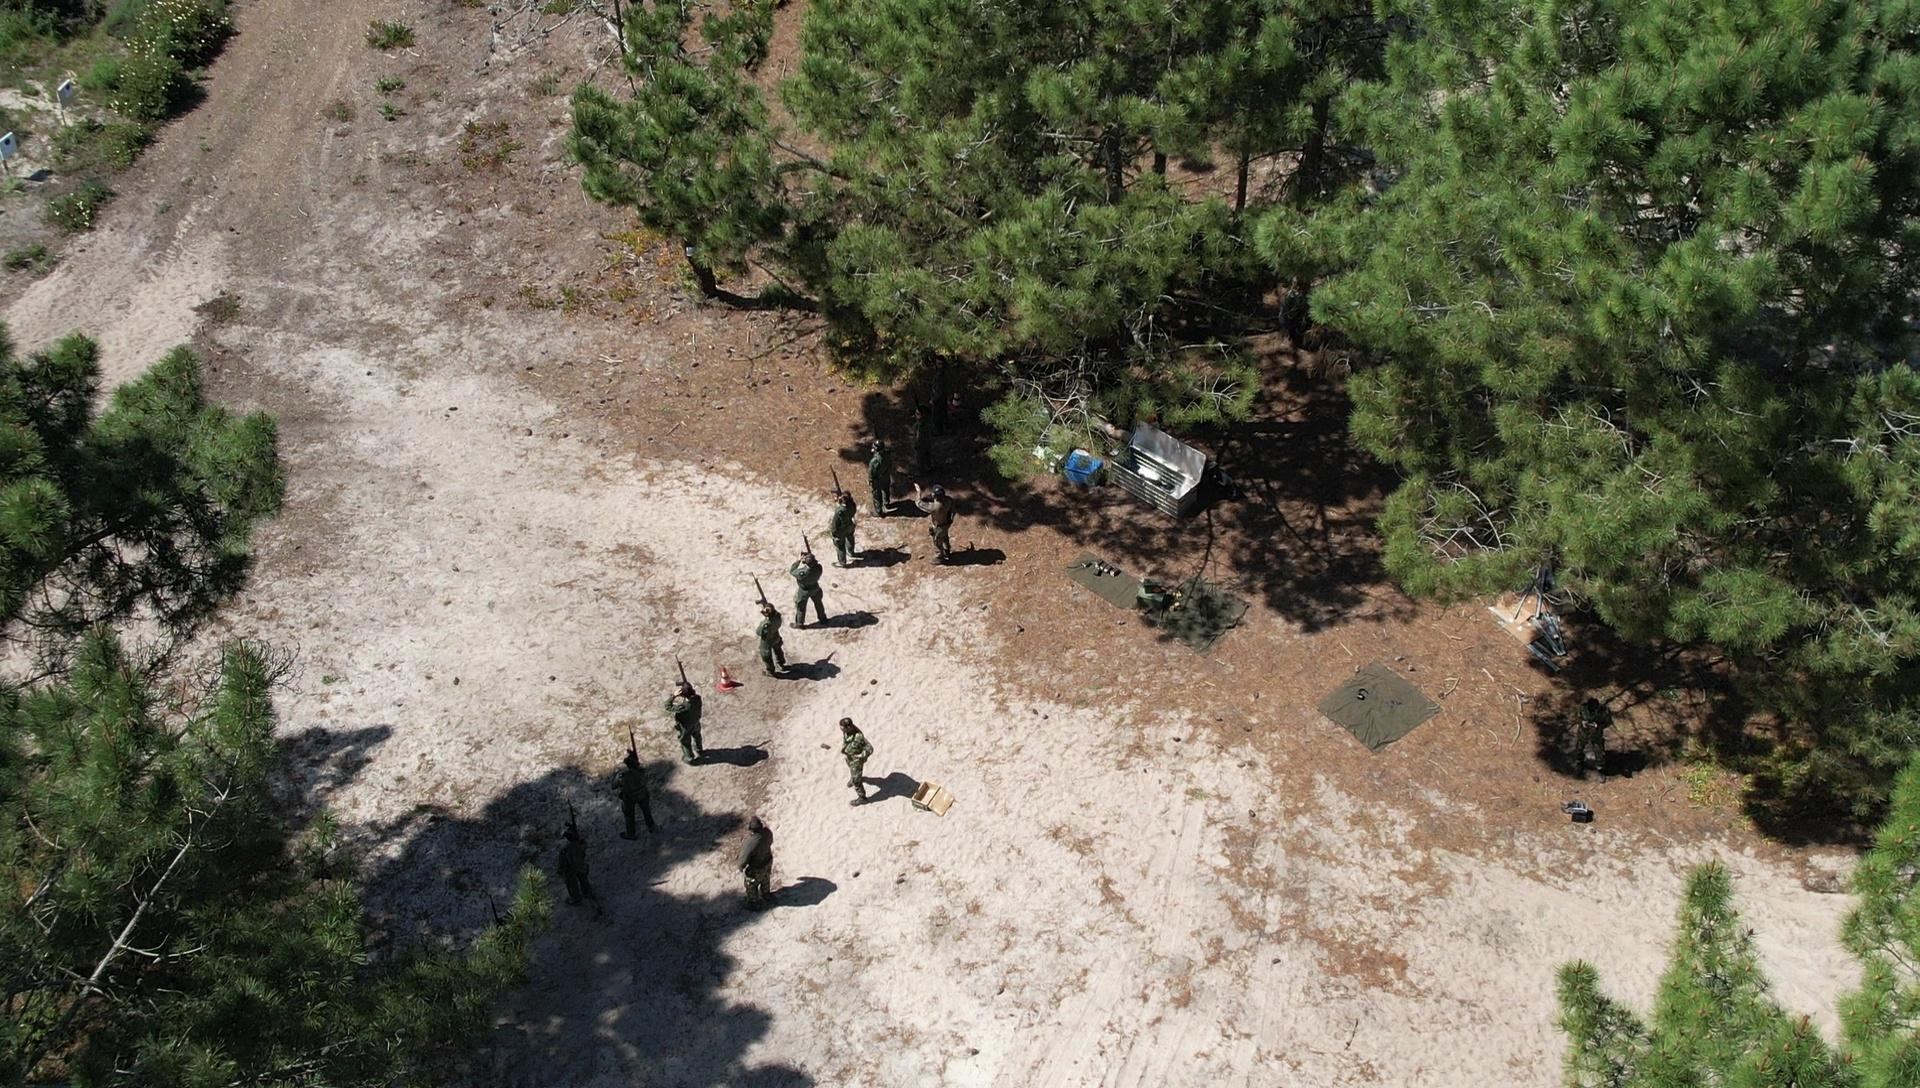Soldier: (608, 729, 667, 855), (549, 807, 607, 926), (728, 810, 783, 913), (746, 568, 793, 684), (858, 411, 901, 526), (833, 713, 884, 808), (787, 537, 832, 642), (1571, 691, 1615, 789), (824, 450, 861, 563), (673, 669, 711, 775), (906, 476, 949, 563)
